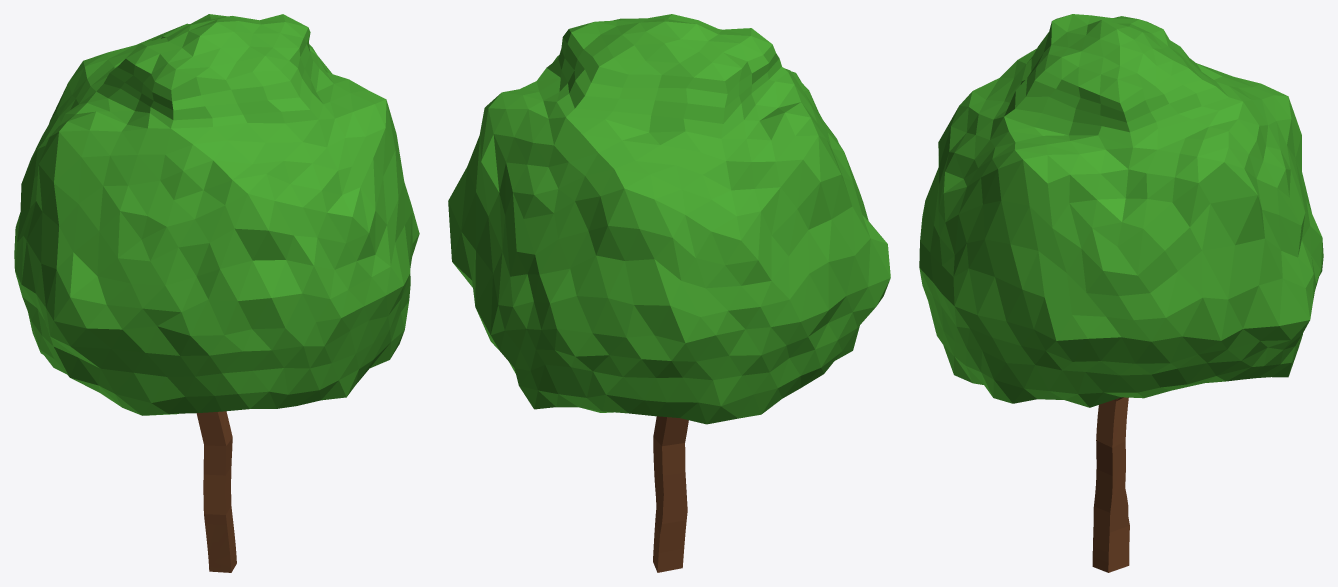
File: Tree4.fbx
3 views of the same model, side by side, from view 1: azimuth 30°, elevation 25°; view 2: azimuth 150°, elevation 25°; view 3: azimuth 270°, elevation 25° (orthographic). The views are drawn at different scales.
Parts seen in each view (by area): view 1: Tree 4; view 2: Tree 4; view 3: Tree 4.
Part boxes in pixels (x1,y1,x2,y2): Tree 4: [14, 14, 419, 572]; Tree 4: [448, 14, 890, 572]; Tree 4: [919, 14, 1323, 572].
Bounding box in the file's own units: 795 × 1107 × 756.
